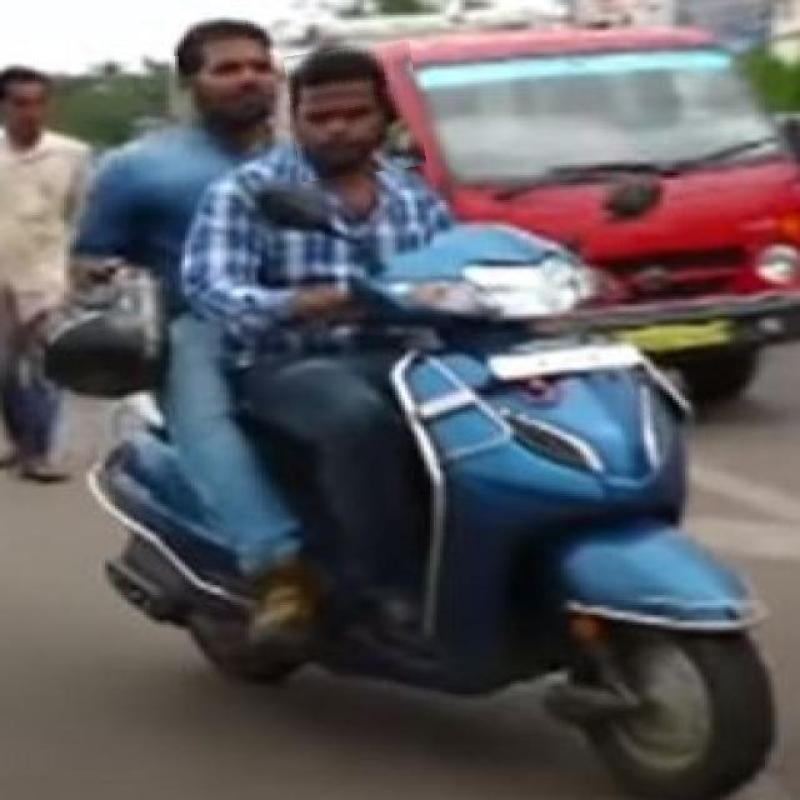nohelmet: (287, 43, 422, 178), (148, 20, 284, 148)
